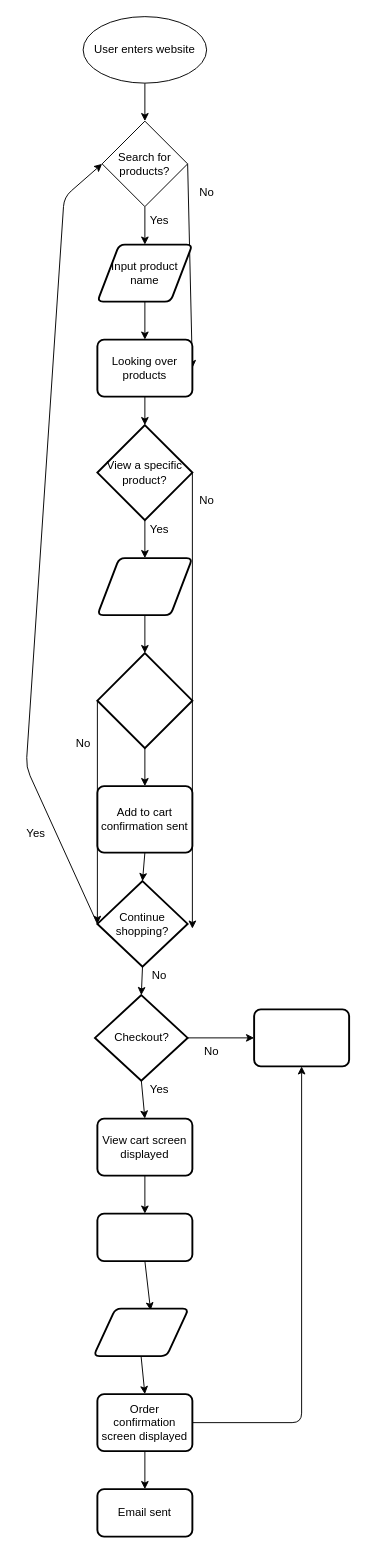
The diagram is 366 pixels wide and 1554 high, and some of its shapes have lost their labels. The centre of each missing label's shape, as x and y in pixels:
Add to cart?: [144,700]
input payment detials: [140,1332]
Leave website: [301,1037]
Product's webpage opens: [144,586]
View payment screen: [144,1237]
